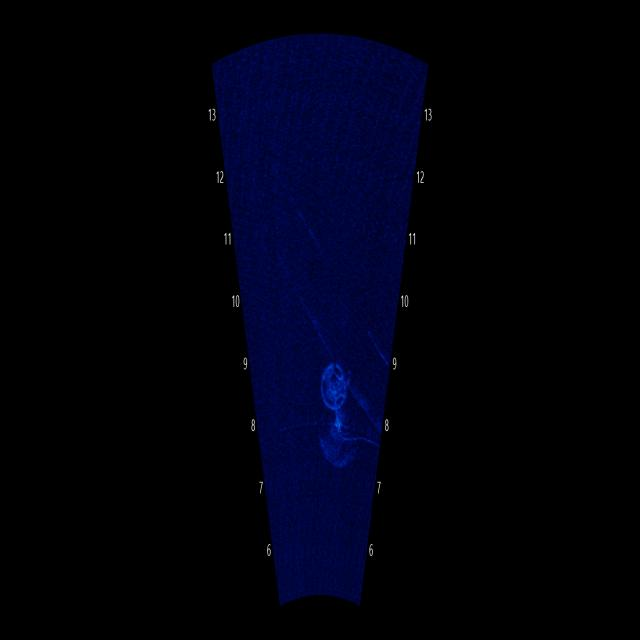circle: (312, 331, 362, 424)
